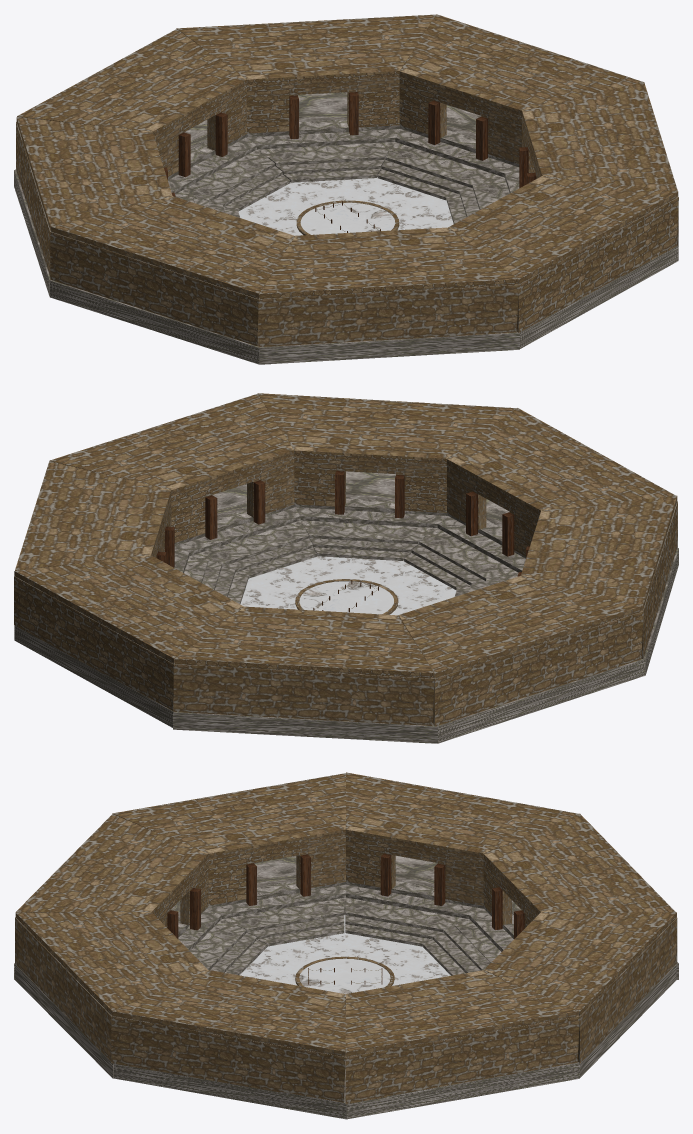
The model's file is LevelDesign_Round_Arena_Final.fbx.
3 views of the same model, one above another, from view 1: azimuth 30°, elevation 25°; view 2: azimuth 150°, elevation 25°; view 3: azimuth 270°, elevation 25° (orthographic). The views are drawn at different scales.
Parts seen in each view (by area): view 1: Cube.014, Cube.017, Cube.013, Cube.011, Cube.002, Cube.005, Cube.023, Cube.020, Cube.008, Cube.016, Cube.010, Ground (+22 smaller); view 2: Cube.023, Cube.020, Cube.022, Cube.002, Cube.011, Cube.008, Cube.014, Cube.017, Cube.005, Cube.019, Cube.001, Ground (+22 smaller); view 3: Cube.005, Cube.008, Cube.020, Cube.017, Cube.002, Cube.011, Cube.007, Cube.023, Cube.014, Cube.004, Ground, Cube.001 (+20 smaller).
Boxes of the visible parts, <box> form: Cube.014: <box>259,227,518,298</box>; Cube.017: <box>51,196,294,299</box>; Cube.013: <box>258,285,518,347</box>; Cube.011: <box>448,176,678,284</box>; Cube.002: <box>176,14,435,84</box>; Cube.005: <box>399,14,642,116</box>; Cube.023: <box>17,29,246,136</box>; Cube.020: <box>16,117,172,231</box>; Cube.008: <box>522,82,678,196</box>; Cube.016: <box>50,232,258,346</box>; Cube.010: <box>516,197,678,332</box>; Ground: <box>238,177,453,235</box>; Cube.023: <box>174,606,434,678</box>; Cube.020: <box>398,575,643,678</box>; Cube.022: <box>173,664,434,725</box>; Cube.002: <box>14,555,244,663</box>; Cube.011: <box>257,393,516,464</box>; Cube.008: <box>49,394,293,495</box>; Cube.014: <box>447,408,675,515</box>; Cube.017: <box>521,495,677,608</box>; Cube.005: <box>15,461,171,570</box>; Cube.019: <box>432,611,643,726</box>; Cube.001: <box>14,576,173,711</box>; Ground: <box>240,556,456,615</box>; Cube.005: <box>345,970,579,1056</box>; Cube.008: <box>111,970,345,1056</box>; Cube.020: <box>345,772,578,858</box>; Cube.017: <box>112,773,345,858</box>; Cube.002: <box>484,912,676,1016</box>; Cube.011: <box>15,912,207,1015</box>; Cube.007: <box>111,1016,345,1102</box>; Cube.023: <box>483,813,675,914</box>; Cube.014: <box>15,814,208,914</box>; Cube.004: <box>345,1016,579,1104</box>; Ground: <box>240,914,450,985</box>; Cube.001: <box>577,918,677,1063</box>.
Size of the model in its own units: 43445 by 4918 by 43538.
12 materials, 12 textured.
